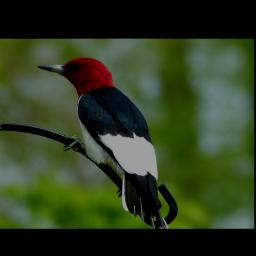Woodpecker: (35, 56, 172, 228)
